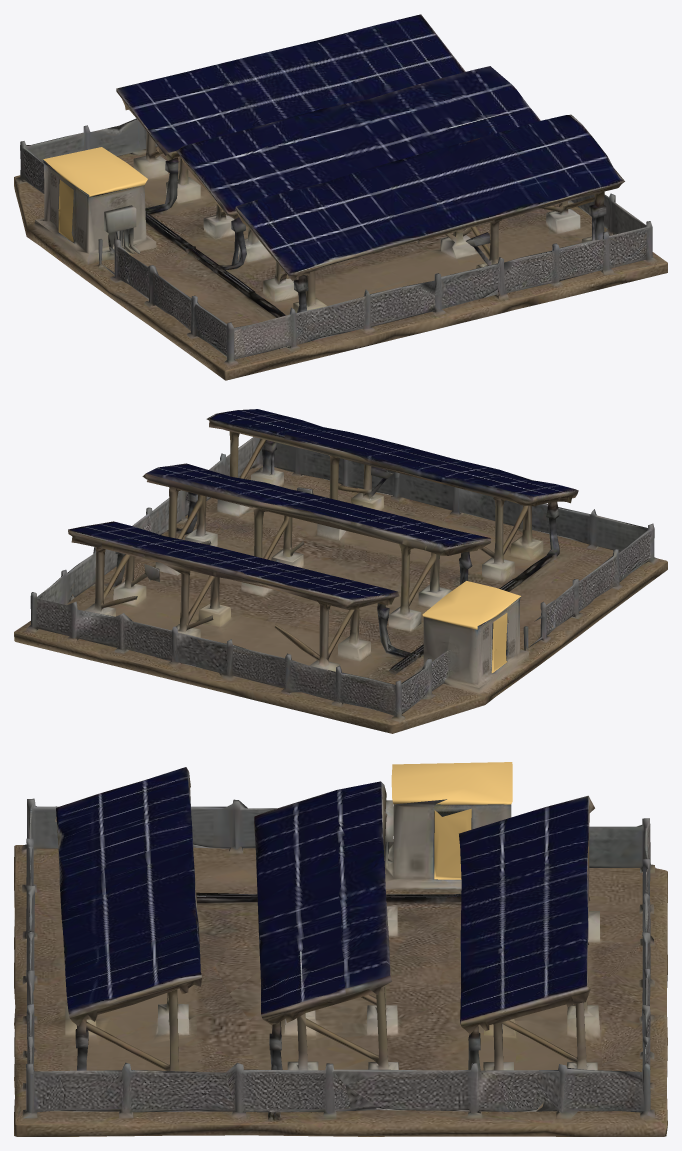
Rendered from solar_plant.glb.
The picture shows the model from 3 angles, top to bottom: view 1: azimuth 30°, elevation 25°; view 2: azimuth 150°, elevation 25°; view 3: azimuth 270°, elevation 25°; orthographic projection. The views are drawn at different scales.
Visible parts, largest first — view 1: Model; view 2: Model; view 3: Model.
Part boxes in pixels (x1,y1,x2,y2): Model: [14, 14, 667, 380]; Model: [14, 409, 667, 733]; Model: [14, 762, 667, 1136].
Size of the model in its own units: 2 by 0.4917 by 1.96.
Materials: 2 (1 with a texture image).
